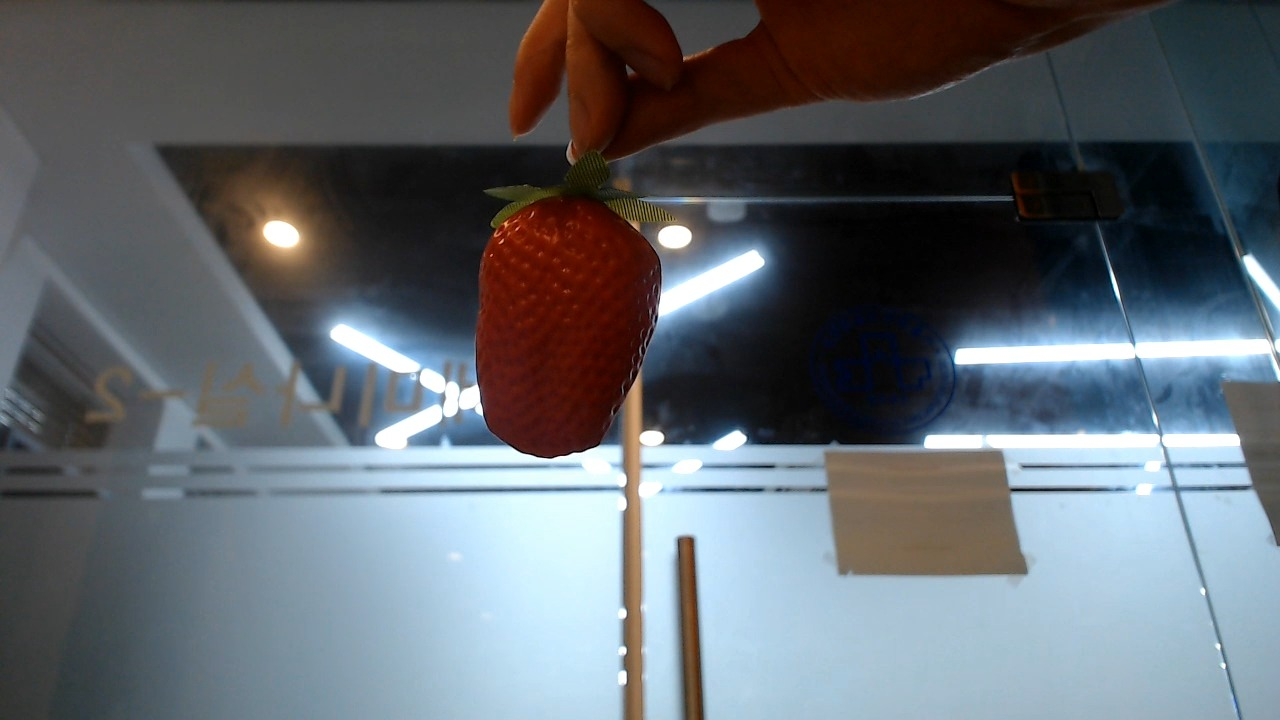strawberry: (476, 176, 663, 457)
